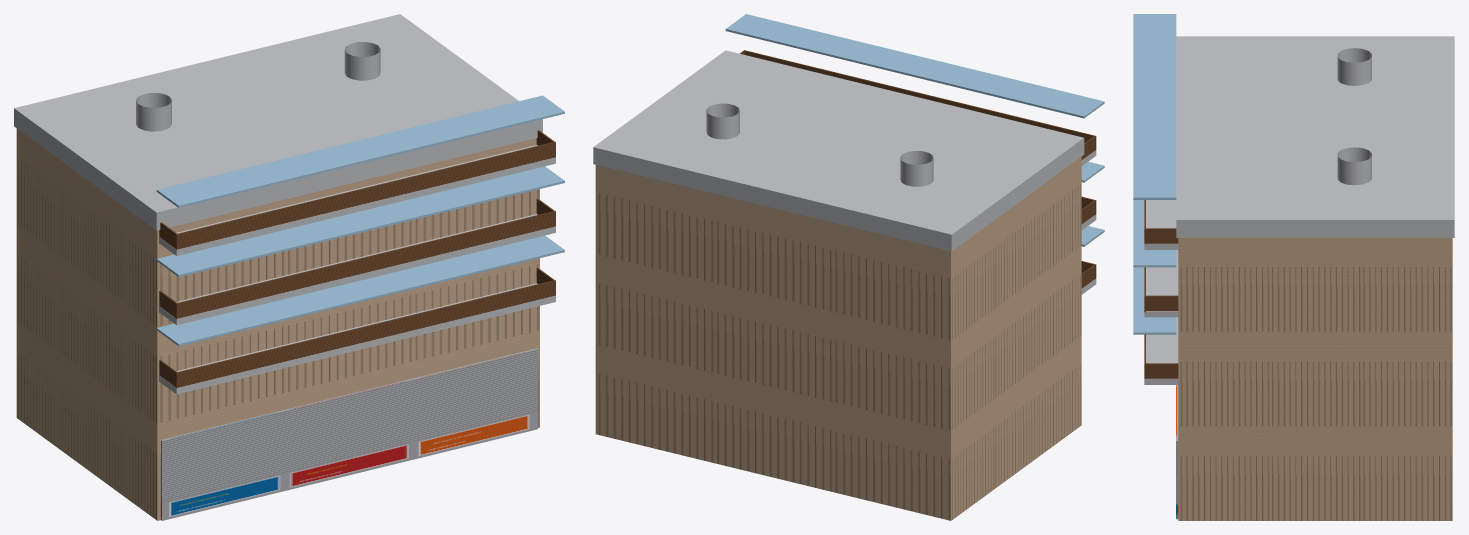
Rendered from chawl_building_realistic.glb.
The picture shows the model from 3 angles, left to right: view 1: azimuth 30°, elevation 25°; view 2: azimuth 150°, elevation 25°; view 3: azimuth 270°, elevation 25°; orthographic projection. The views are drawn at different scales.
Parts seen in each view (by area): view 1: Chawl_Main_Building, Chawl_Rooftop, Chawl_Shops, Chawl_Tin_Awnings, Chawl_Balcony_Railings, Chawl_Balcony_Floors; view 2: Chawl_Main_Building, Chawl_Rooftop, Chawl_Tin_Awnings, Chawl_Balcony_Railings; view 3: Chawl_Main_Building, Chawl_Rooftop, Chawl_Tin_Awnings, Chawl_Balcony_Floors, Chawl_Balcony_Railings, Chawl_Shops.
Part boxes in pixels (bbox=[...]): Chawl_Main_Building: bbox=[16, 128, 539, 520]; Chawl_Rooftop: bbox=[14, 14, 542, 230]; Chawl_Shops: bbox=[161, 348, 537, 520]; Chawl_Tin_Awnings: bbox=[156, 95, 564, 346]; Chawl_Balcony_Railings: bbox=[159, 130, 555, 387]; Chawl_Balcony_Floors: bbox=[159, 145, 555, 394]; Chawl_Main_Building: bbox=[595, 157, 1081, 520]; Chawl_Rooftop: bbox=[593, 50, 1084, 251]; Chawl_Tin_Awnings: bbox=[725, 14, 1104, 246]; Chawl_Balcony_Railings: bbox=[740, 50, 1096, 288]; Chawl_Main_Building: bbox=[1178, 238, 1452, 520]; Chawl_Rooftop: bbox=[1176, 36, 1454, 237]; Chawl_Tin_Awnings: bbox=[1133, 14, 1176, 334]; Chawl_Balcony_Floors: bbox=[1144, 200, 1178, 384]; Chawl_Balcony_Railings: bbox=[1144, 200, 1178, 378]; Chawl_Shops: bbox=[1176, 385, 1178, 519].
Bounding box in the file's own units: 22.2 × 18.3 × 16.4.
5 materials, 3 textured.
